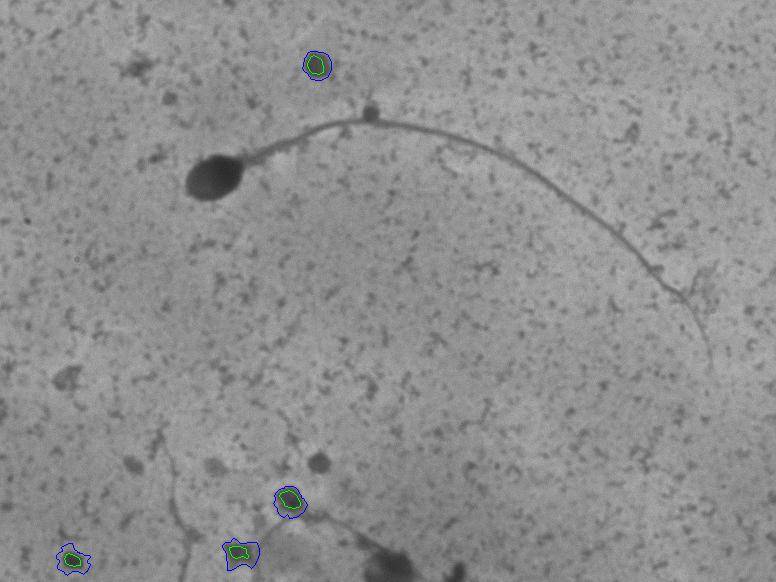Normal: (145, 98, 736, 386)
